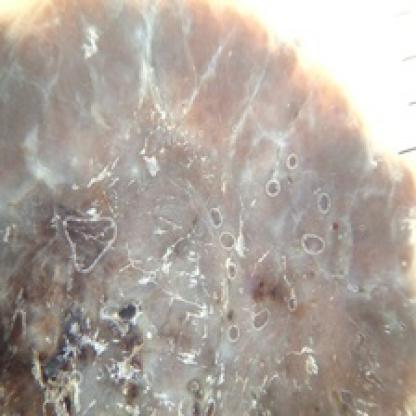malignant: (2, 2, 414, 412)
